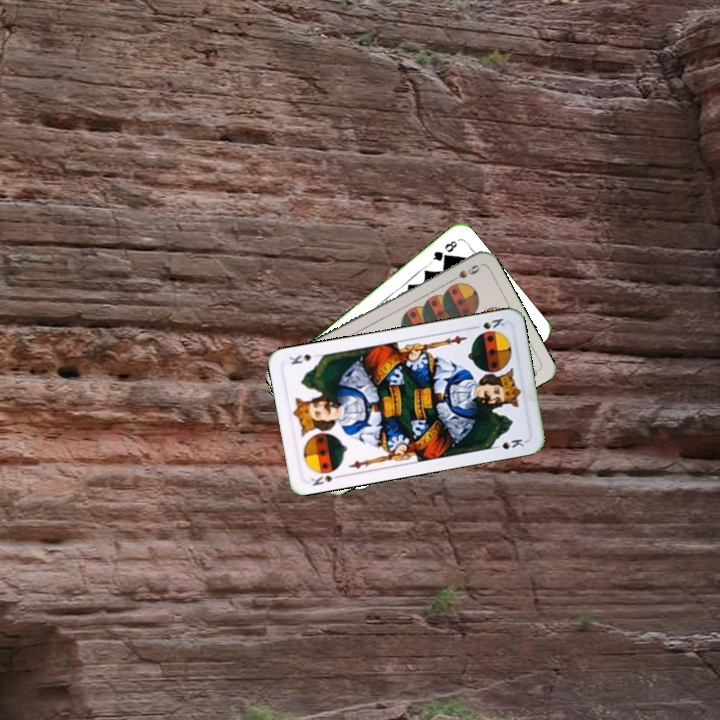G8: (426, 236, 460, 266)
S9: (445, 261, 482, 286)
SK: (307, 470, 344, 489), (468, 314, 507, 332)
